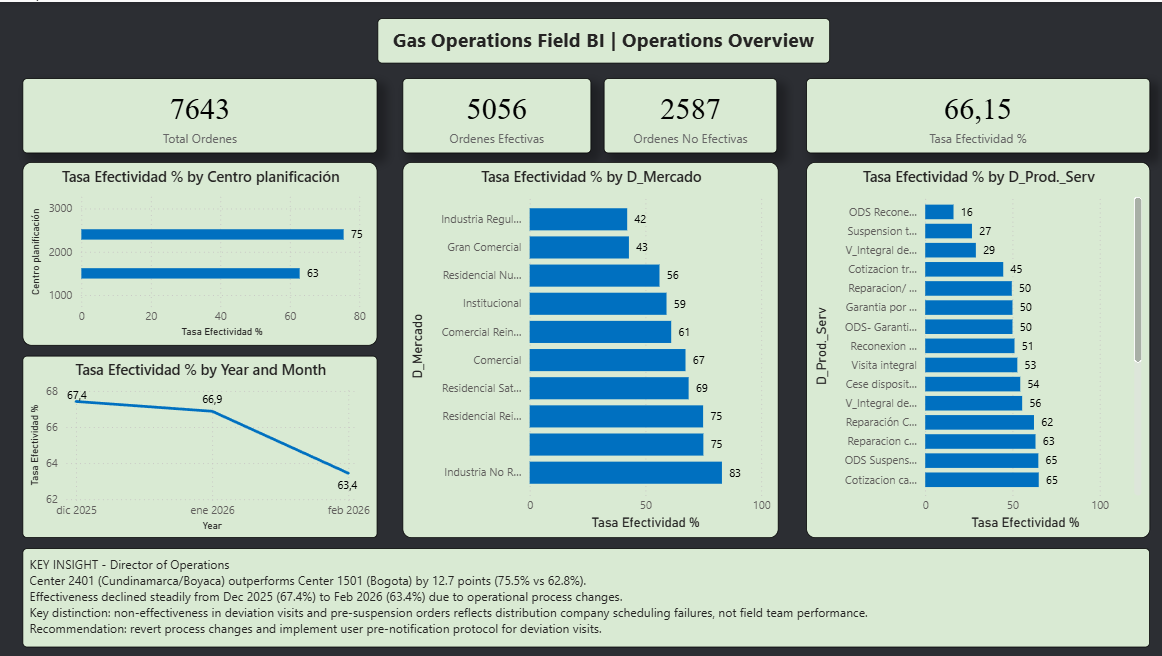

Layout of this report page (visuals, bound fields, positions):
{"tool":"powerbi","page":{"name":"Operations overview","canvas":[1280,720],"ordinal":0},"visuals":[{"type":"card","fields":{"Values":["Data.Total Ordenes"]},"box":[24.7,83.7,389.7,82.3],"z":0},{"type":"card","fields":{"Values":["Data.Ordenes Efectivas"]},"box":[441.9,83.7,207.2,82.3],"z":1},{"type":"card","fields":{"Values":["Data.Ordenes No Efectivas"]},"box":[662.8,83.7,190.7,82.3],"z":2},{"type":"card","fields":{"Values":["Data.Tasa Efectividad %"]},"box":[885.1,83.7,377.4,82.3],"z":3},{"type":"clusteredBarChart","fields":{"Y":["Data.Tasa Efectividad %"],"Category":["Data.Centro planificación"]},"box":[24.7,175.6,389.7,201.7],"z":4},{"type":"clusteredBarChart","fields":{"Y":["Data.Tasa Efectividad %"],"Category":["Data.D_Prod._Serv"]},"box":[885.1,175.6,377.4,413],"z":5},{"type":"clusteredBarChart","fields":{"Y":["Data.Tasa Efectividad %"],"Category":["Data.D_Mercado"]},"box":[441.9,175.6,413,413],"z":6},{"type":"lineChart","fields":{"Y":["Data.Tasa Efectividad %"],"Category":["Data.Fecha de Ejecución (Fin).Variation.Date Hierarchy.Year","Data.Fecha de Ejecución (Fin).Variation.Date Hierarchy.Month"]},"box":[24.7,388.3,389.7,200.3],"z":7},{"type":"textbox","box":[24.7,599.7,1237.7,108.4],"z":8},{"type":"textbox","box":[414.4,17.8,496.7,49.4],"z":9}]}

Visuals, with their boxes in screenshot pixels (x1, y1, x2, y2), scaled from the page's 1280x720 canvas onto the 1162x656 screenshot:
card - Data.Total Ordenes: x1=22 y1=76 x2=376 y2=151
card - Data.Ordenes Efectivas: x1=401 y1=76 x2=589 y2=151
card - Data.Ordenes No Efectivas: x1=602 y1=76 x2=775 y2=151
card - Data.Tasa Efectividad %: x1=804 y1=76 x2=1146 y2=151
clusteredBarChart - Data.Tasa Efectividad % x Data.Centro planificación: x1=22 y1=160 x2=376 y2=344
clusteredBarChart - Data.Tasa Efectividad % x Data.D_Prod._Serv: x1=804 y1=160 x2=1146 y2=536
clusteredBarChart - Data.Tasa Efectividad % x Data.D_Mercado: x1=401 y1=160 x2=776 y2=536
lineChart - Data.Tasa Efectividad % x Data.Fecha de Ejecución (Fin).Variation.Date Hierarchy.Year: x1=22 y1=354 x2=376 y2=536
textbox: x1=22 y1=546 x2=1146 y2=645
textbox: x1=376 y1=16 x2=827 y2=61
